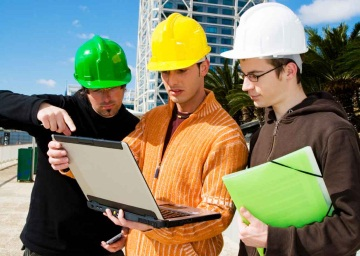Helmet: (219, 2, 310, 60), (145, 11, 212, 73), (71, 34, 134, 90)
